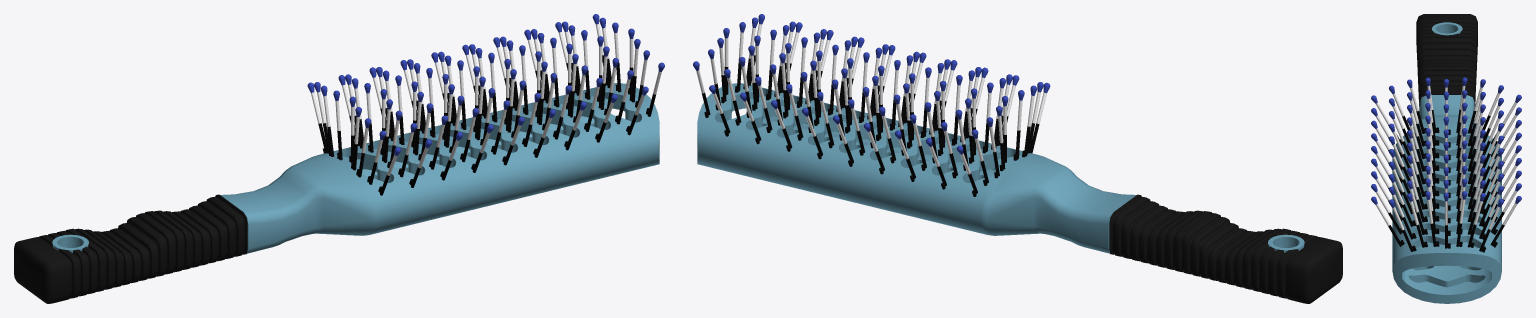
File: brush.glb
The picture shows the model from 3 angles, left to right: view 1: azimuth 30°, elevation 25°; view 2: azimuth 150°, elevation 25°; view 3: azimuth 270°, elevation 25°; orthographic projection. The views are drawn at different scales.
Parts seen in each view (by area): view 1: F6002CEP_F6002AZU_0, F6002CEP_F6002PLA_0, F6002PUA_F6002BLA_0, F6002PUA_F6002NEG_0, F6002PUA_F6002AZU_0; view 2: F6002CEP_F6002AZU_0, F6002CEP_F6002PLA_0, F6002PUA_F6002BLA_0, F6002PUA_F6002NEG_0, F6002PUA_F6002AZU_0; view 3: F6002CEP_F6002AZU_0, F6002PUA_F6002BLA_0, F6002PUA_F6002NEG_0, F6002CEP_F6002PLA_0, F6002PUA_F6002AZU_0.
Boxes of the visible parts, x1,y1,x2,y2 form: F6002CEP_F6002AZU_0: (52, 83, 659, 253); F6002CEP_F6002PLA_0: (14, 194, 247, 303); F6002PUA_F6002BLA_0: (311, 24, 661, 175); F6002PUA_F6002NEG_0: (318, 55, 656, 195); F6002PUA_F6002AZU_0: (307, 14, 664, 155); F6002CEP_F6002AZU_0: (697, 83, 1304, 253); F6002CEP_F6002PLA_0: (1109, 194, 1342, 303); F6002PUA_F6002BLA_0: (696, 24, 1046, 174); F6002PUA_F6002NEG_0: (702, 55, 1039, 196); F6002PUA_F6002AZU_0: (693, 14, 1050, 154); F6002CEP_F6002AZU_0: (1392, 22, 1501, 303); F6002PUA_F6002BLA_0: (1375, 86, 1517, 230); F6002PUA_F6002NEG_0: (1388, 109, 1504, 252); F6002CEP_F6002PLA_0: (1416, 14, 1477, 112); F6002PUA_F6002AZU_0: (1371, 77, 1521, 207).
Bounding box in the file's own units: 214 × 42.33 × 54.56.
